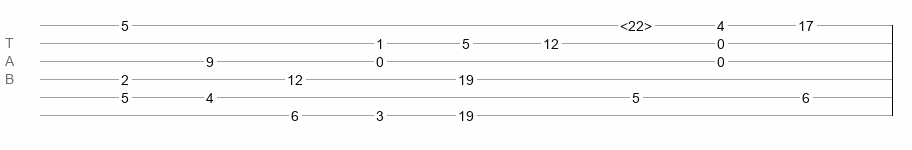0: (376, 54, 384, 64), (717, 54, 725, 64), (717, 36, 725, 46)
1: (376, 36, 384, 46)
12: (287, 72, 303, 82), (543, 36, 559, 46)
17: (798, 18, 814, 28)
19: (458, 108, 474, 118), (458, 72, 474, 82)
2: (121, 72, 129, 82)
3: (376, 108, 384, 118)
4: (206, 90, 214, 100), (717, 18, 725, 28)
5: (121, 18, 129, 28), (121, 90, 129, 100), (462, 36, 470, 46), (632, 90, 640, 100)
6: (291, 108, 299, 118), (802, 90, 810, 100)
9: (206, 54, 214, 64)
harmonic: (620, 18, 652, 28)
